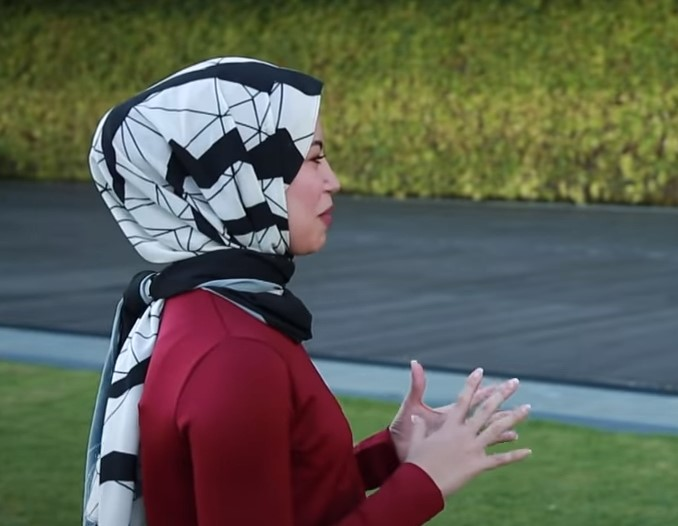face_no_mask: (228, 75, 355, 265)
